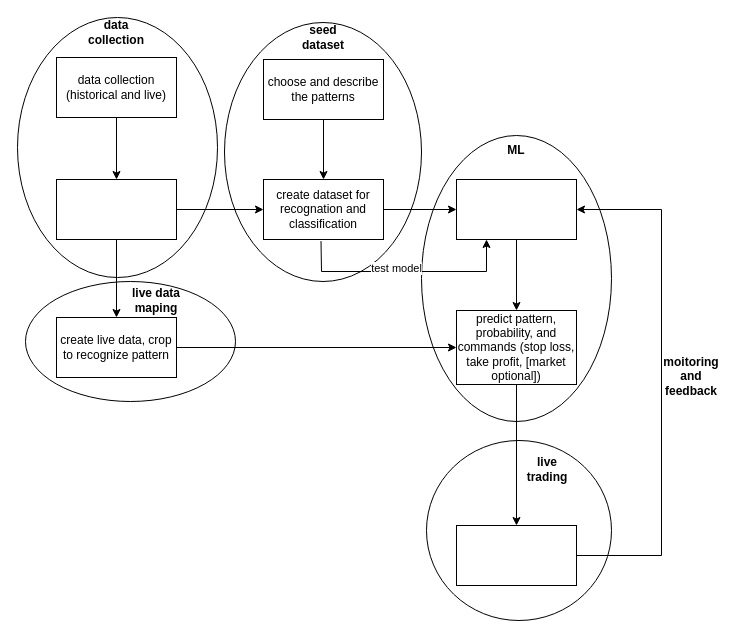
The diagram is 739 pixels wide and 638 high, and some of its shapes have lost their labels. The shapes that lost their labels are listed below. From the top down, each one's centre as x and y in pixels, then its label:
(x=116, y=209): mapping the data
(x=516, y=209): training ML model for pattern classifications
(x=516, y=555): trade, calculate how much money to put in this position
